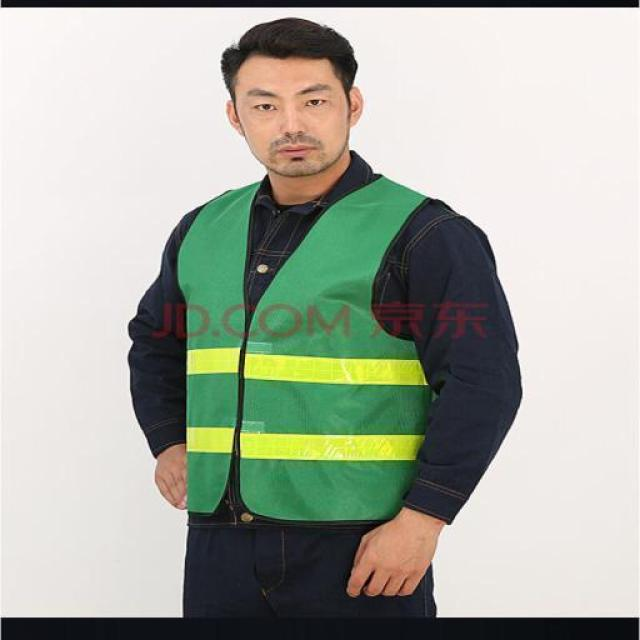face_nomask: (242, 90, 342, 165)
hand_noglove: (331, 506, 445, 600)
head_nohelmet: (213, 12, 366, 88)
person: (126, 16, 526, 619)
vest: (172, 176, 449, 522)
